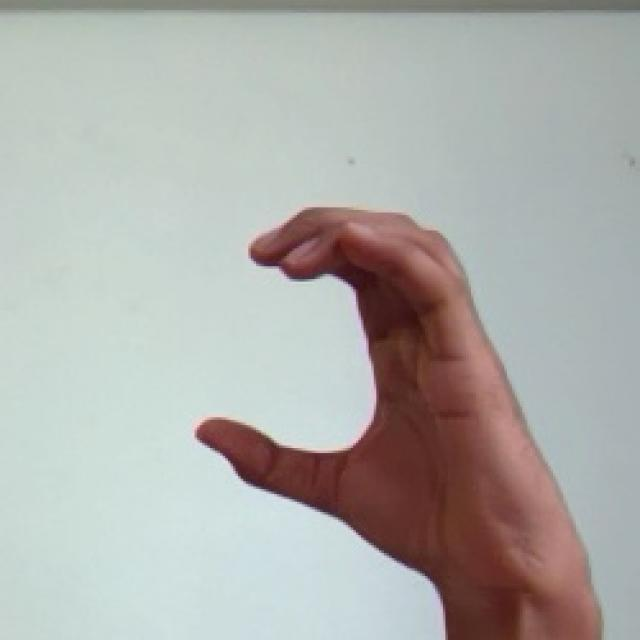Alphabet-C: (0, 13, 640, 640), (197, 207, 604, 640)
